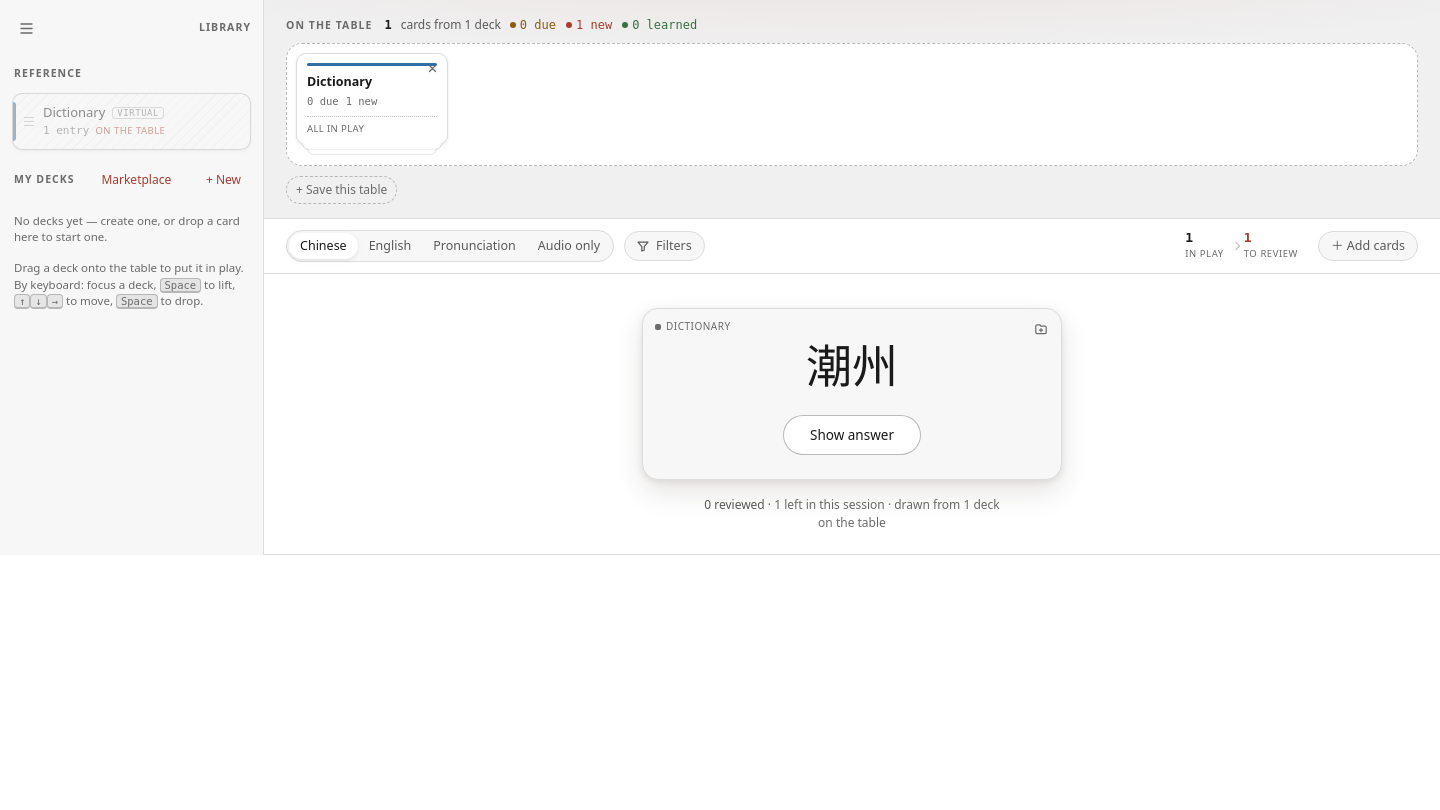
Test: FlashcardsView filters › closes on Escape and on an outside press
This screenshot has width=1440, height=810.
Expected: the text "0 reviewed" is shown, [704,496,765,513]
Step 1. Click the button "Filters" → [664, 246], box [624,231,705,261]
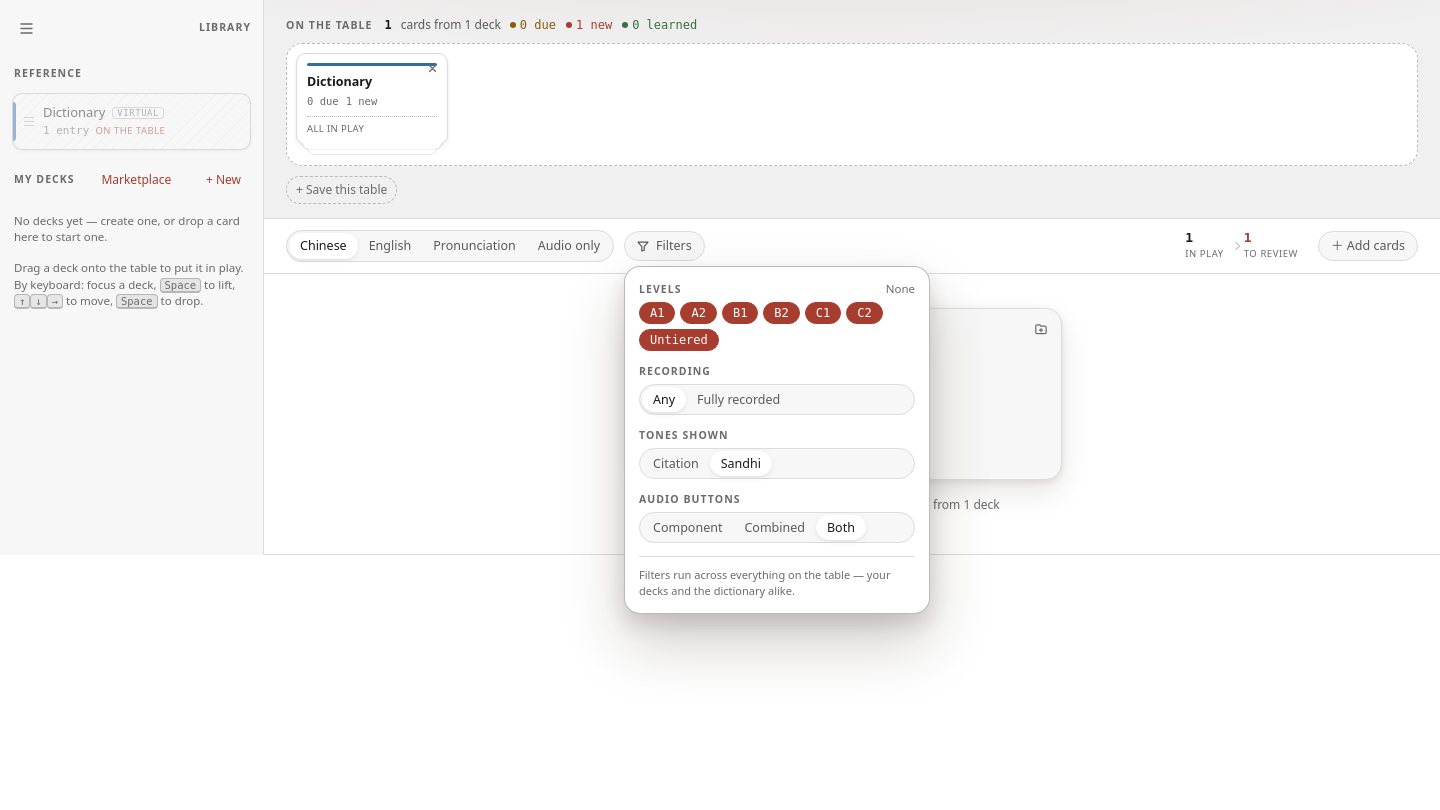
Step 2. Press Escape
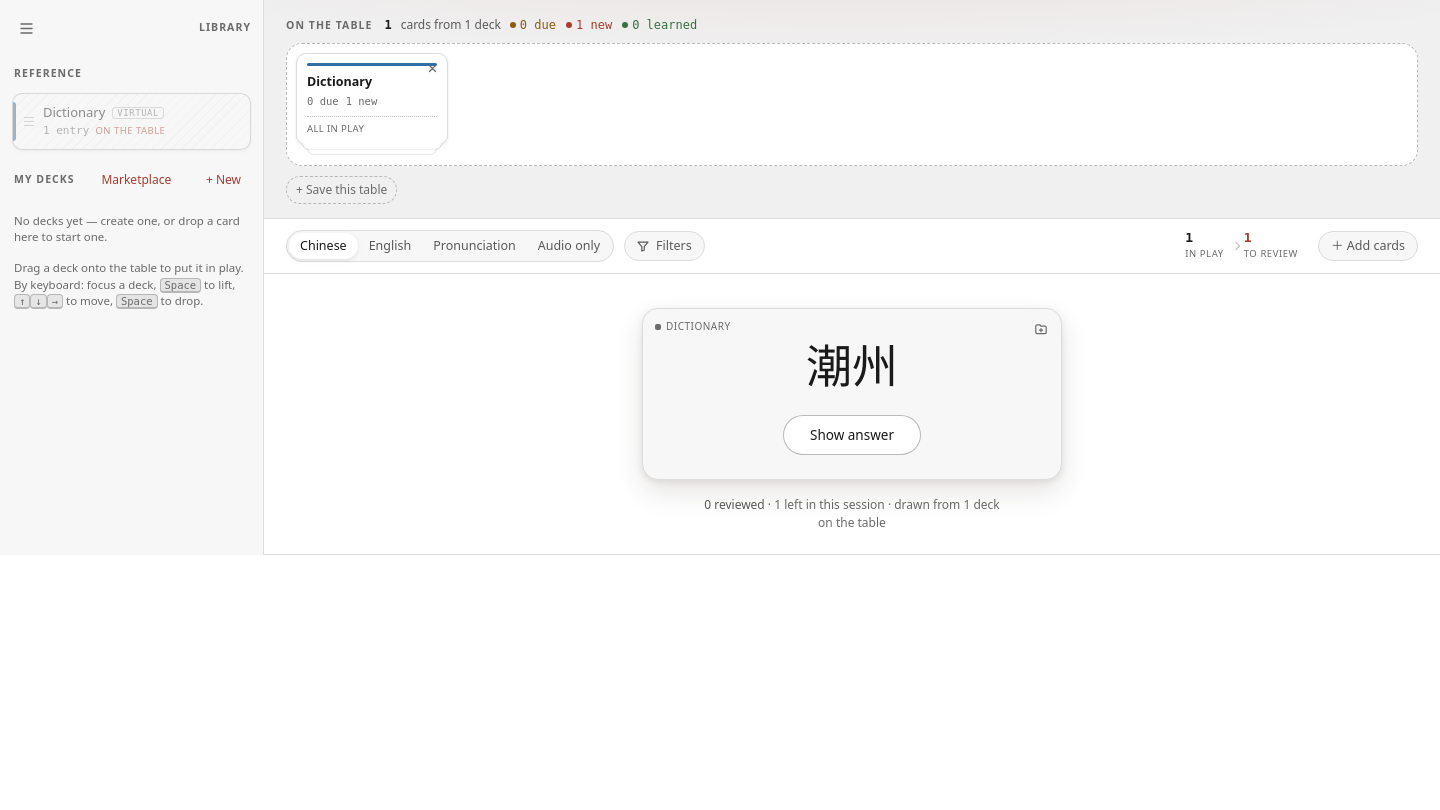
Now the text "Tones shown" is gone
Step 3. Click the button "Filters" → [664, 246], box [624,231,705,261]
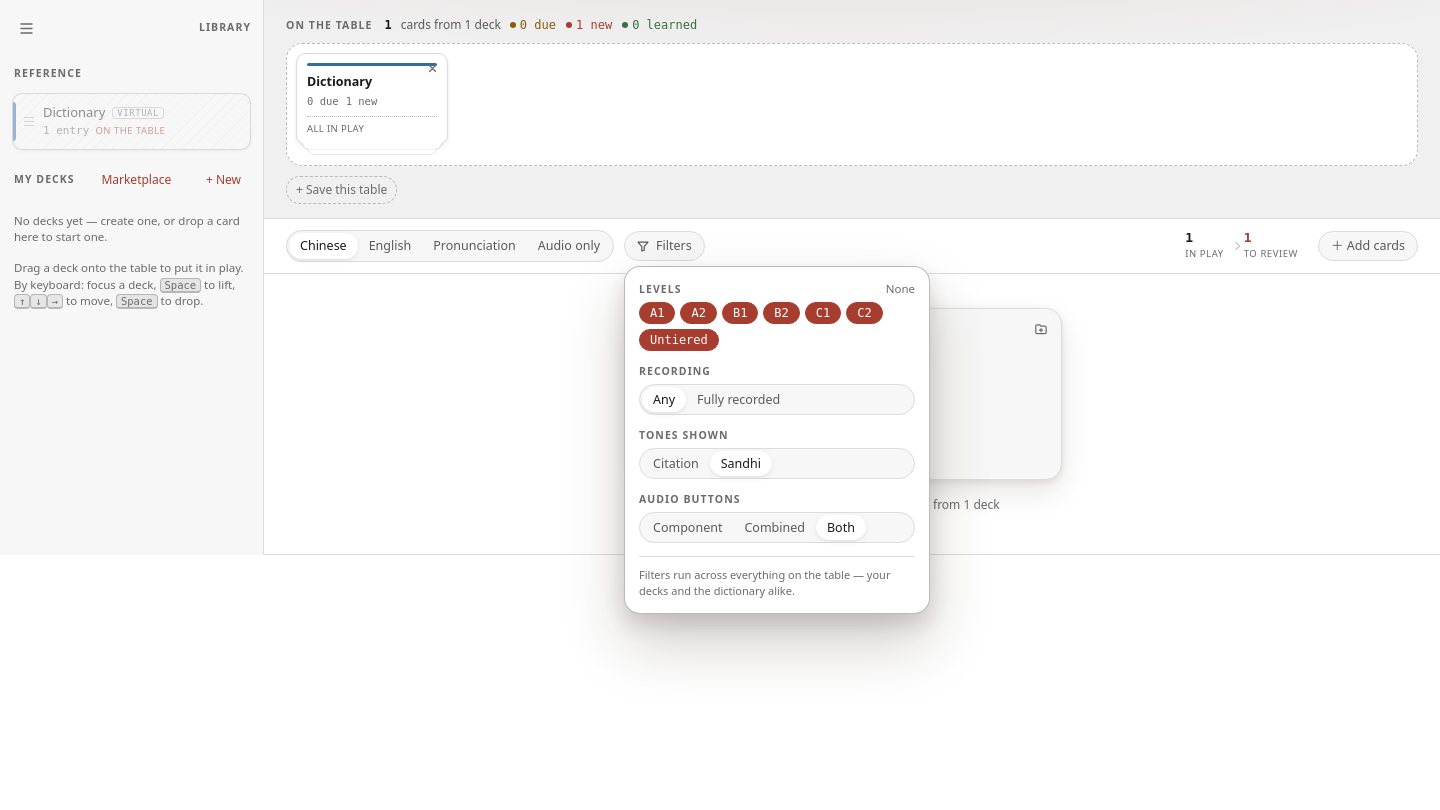
Step 4. Press the mouse on the element that starts with "Library" → [720, 278], box [0,0,1439,555]
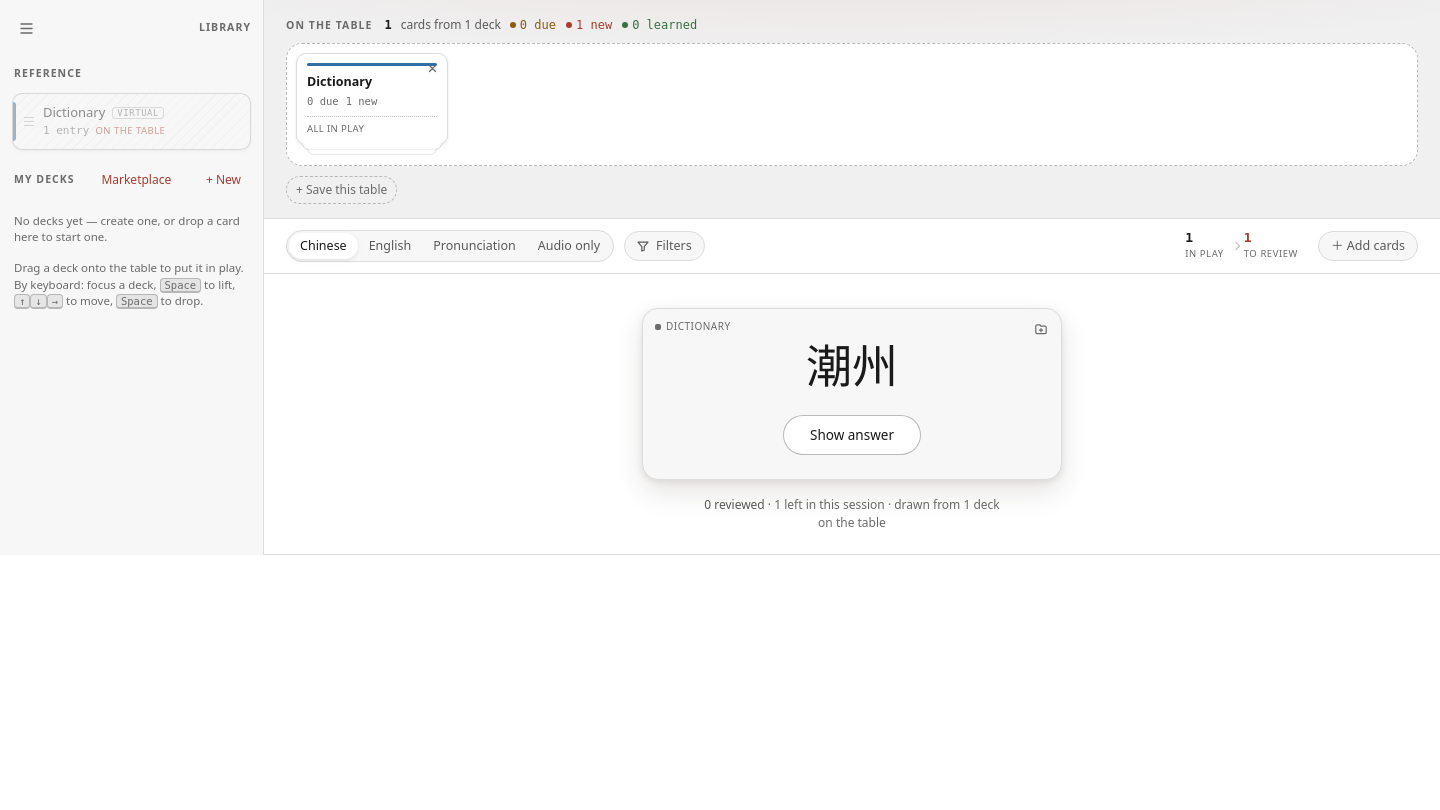
Now the text "Tones shown" is gone
